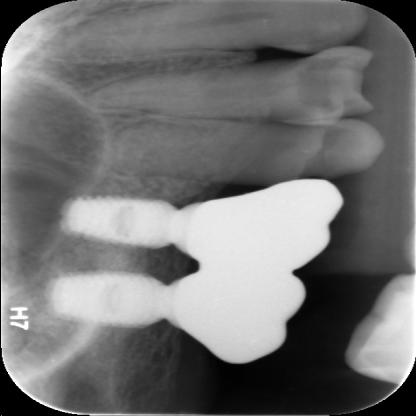Bicon: (45, 272, 167, 322), (62, 200, 182, 244)
